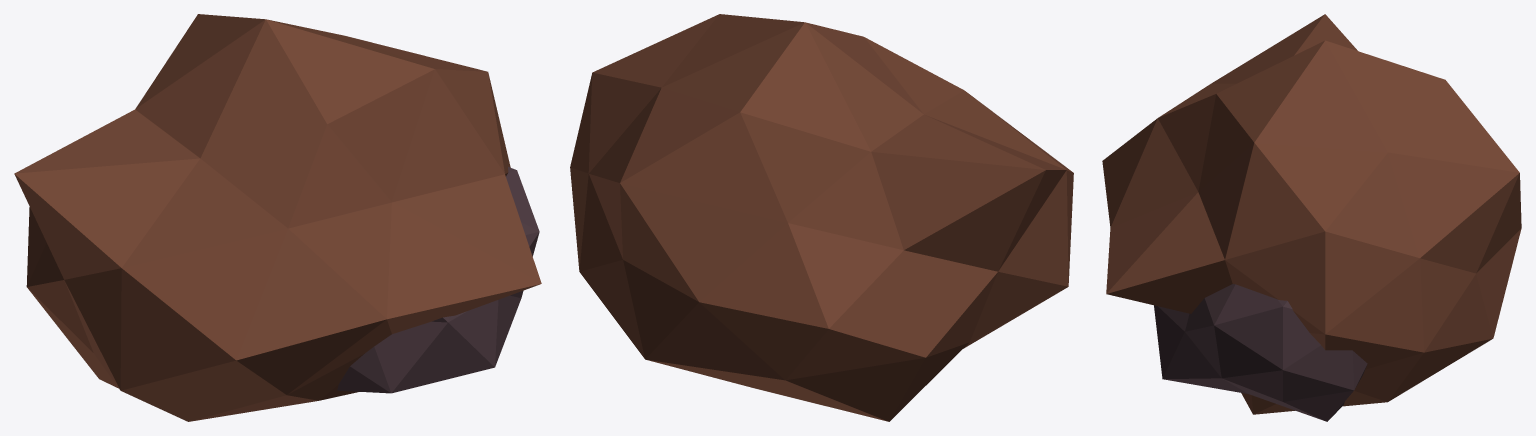
Rendered from RockA.fbx.
3 views of the same model, side by side, from view 1: azimuth 30°, elevation 25°; view 2: azimuth 150°, elevation 25°; view 3: azimuth 270°, elevation 25° (orthographic). The views are drawn at different scales.
Parts seen in each view (by area): view 1: SM_RockA_MAT_RockRust, SM_RockA_MAT_Rock; view 2: SM_RockA_MAT_RockRust; view 3: SM_RockA_MAT_RockRust, SM_RockA_MAT_Rock.
Boxes of the visible parts, x1,y1,x2,y2 form: SM_RockA_MAT_RockRust: [14, 14, 541, 421]; SM_RockA_MAT_Rock: [337, 167, 539, 393]; SM_RockA_MAT_RockRust: [570, 14, 1073, 421]; SM_RockA_MAT_RockRust: [1102, 14, 1521, 414]; SM_RockA_MAT_Rock: [1154, 284, 1367, 421].
Size of the model in its own units: 0.8789 by 0.6041 by 0.7233.
